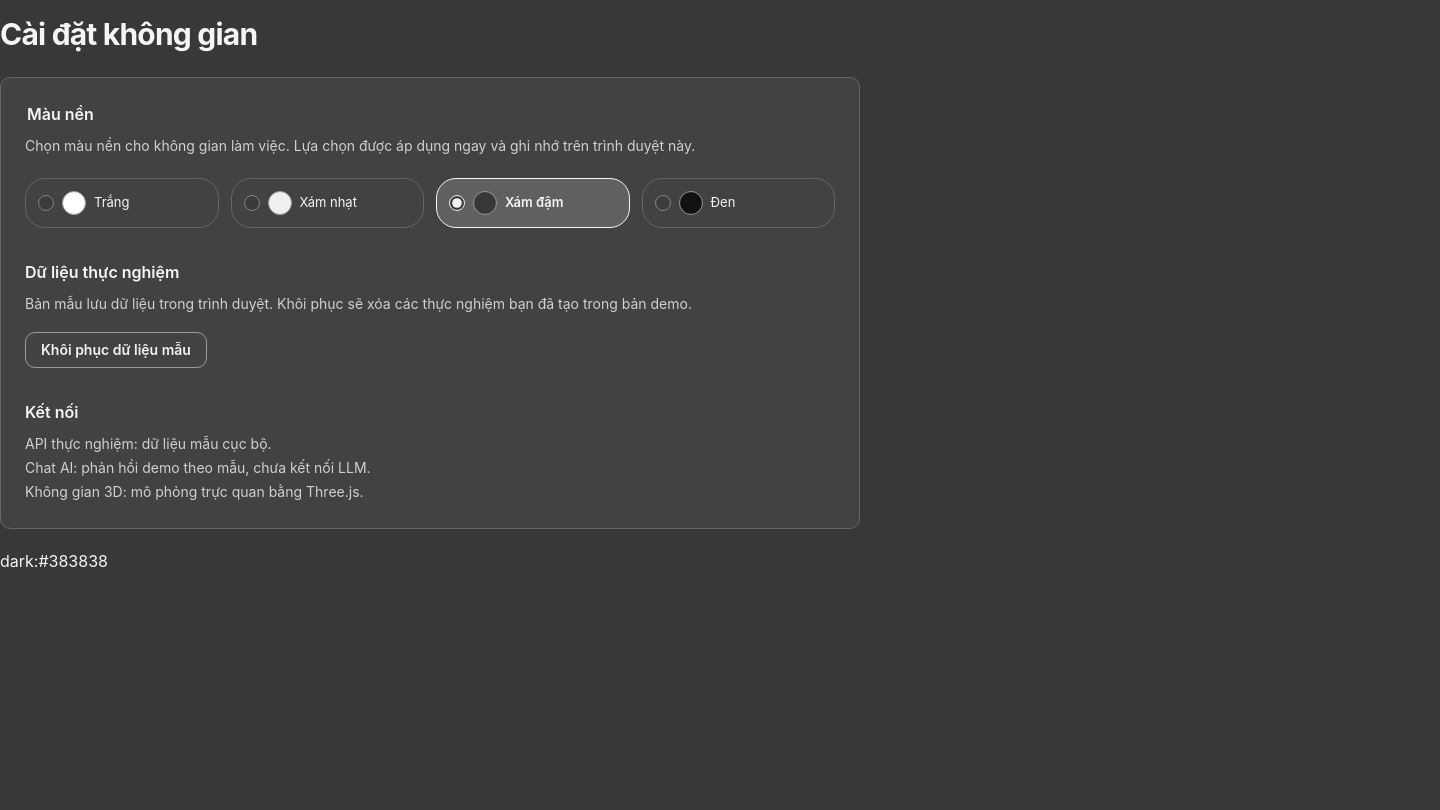
Test case: Cài đặt màu nền › vẫn áp dụng màu cho phiên hiện tại khi trình duyệt chặn ghi dữ liệu
Click the radio button labelled "Đen" at (662, 203), box [654,195,670,211]
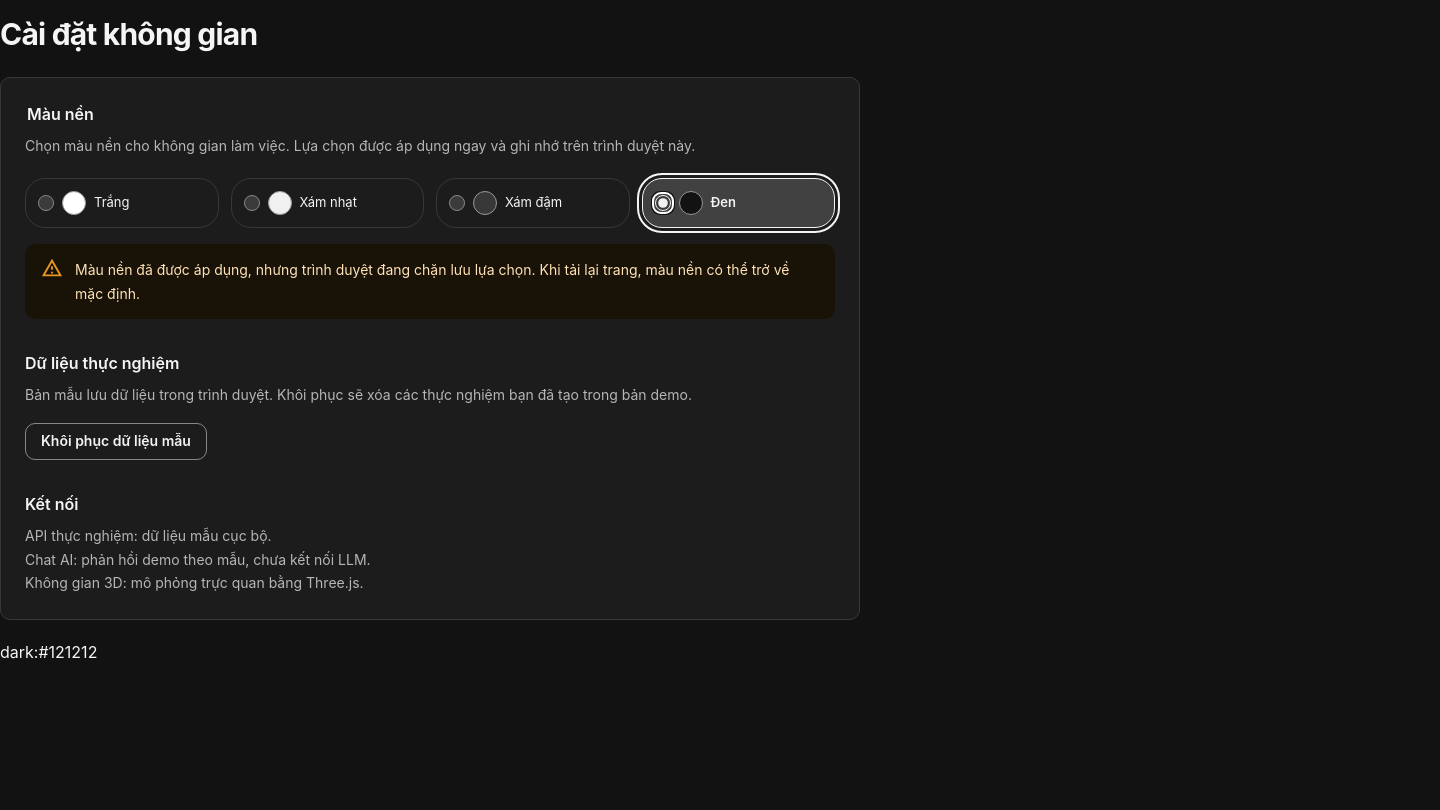
Expected: the text named "Giao diện hiện tại" reads "dark:#121212", [0,642,97,662]
Expected: the message shows "chặn lưu lựa chọn", [75,261,789,302]
